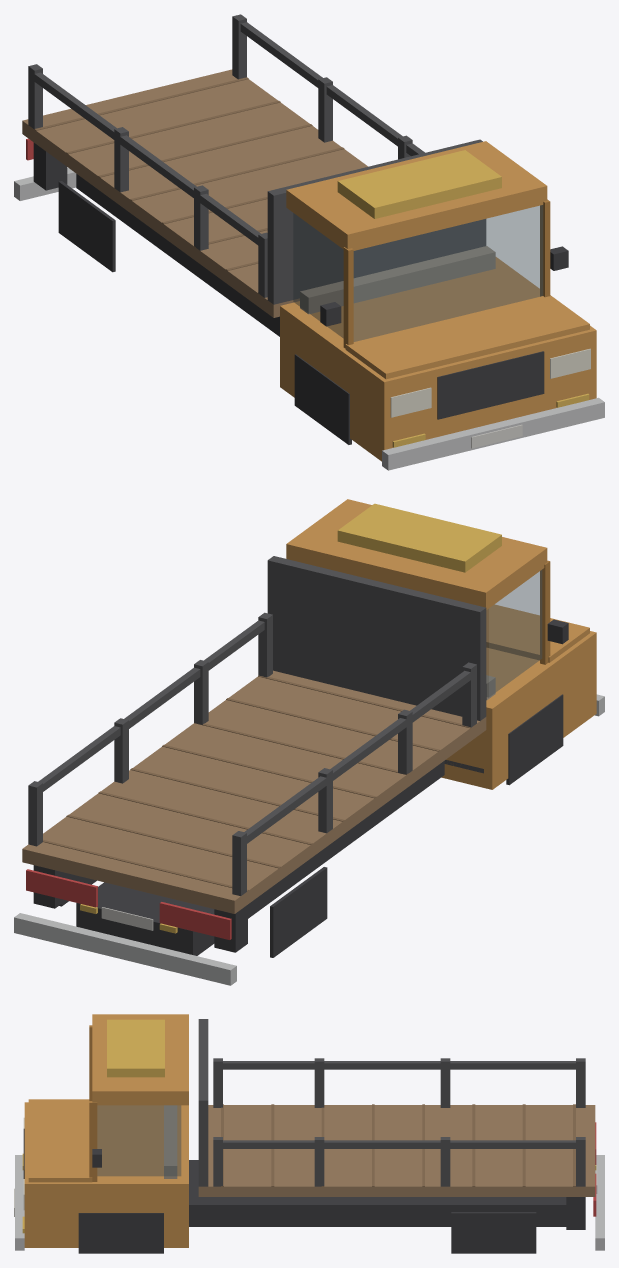
File: flatbed_body.glb
3 views of the same model, one above another, from view 1: azimuth 30°, elevation 25°; view 2: azimuth 150°, elevation 25°; view 3: azimuth 270°, elevation 25° (orthographic). The views are drawn at different scales.
Visible parts, largest first — view 1: verda_platformo; view 2: verda_platformo; view 3: verda_platformo.
Part boxes in pixels (x1,y1,x2,y2): verda_platformo: (14, 14, 604, 470); verda_platformo: (14, 499, 604, 985); verda_platformo: (14, 1014, 604, 1253).
Bounding box in the file's own units: 2.28 × 1.92 × 6.11.
